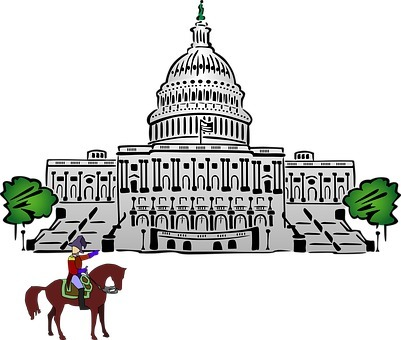horse: (22, 261, 127, 338)
person: (65, 234, 101, 310)
